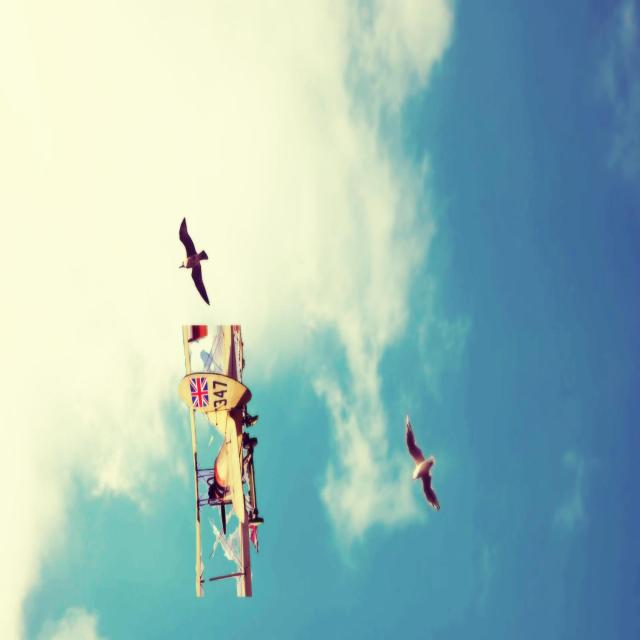airplane: (178, 322, 264, 598)
